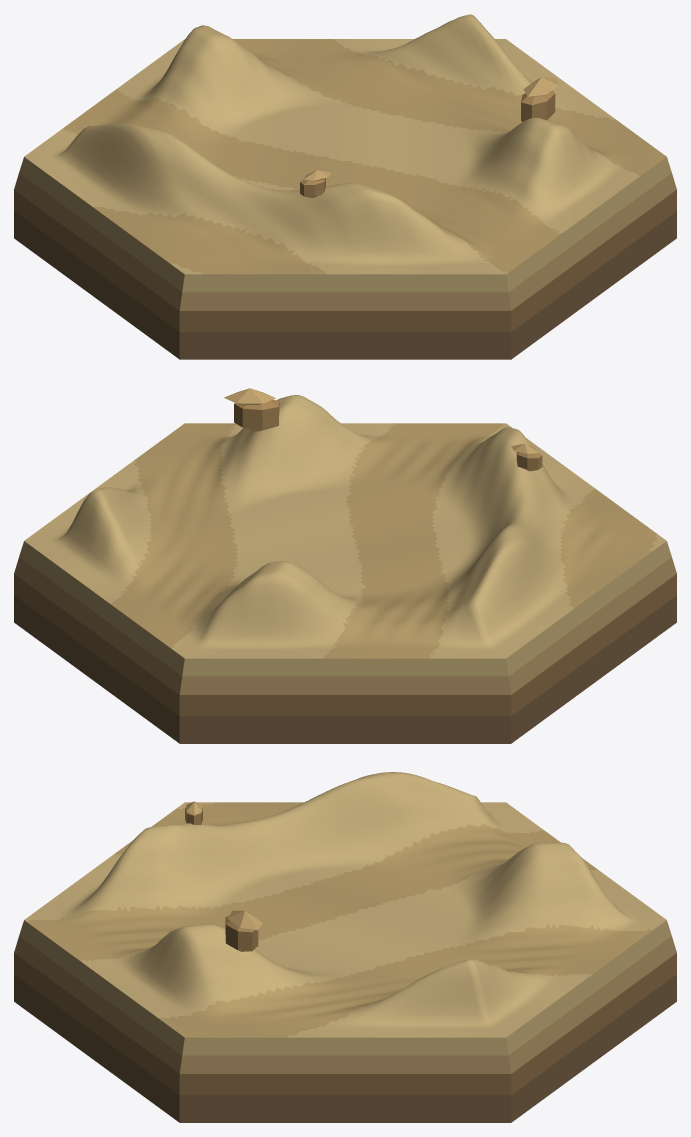
File: catan_terrain_desert_01.glb
3 views of the same model, one above another, from view 1: azimuth 30°, elevation 25°; view 2: azimuth 150°, elevation 25°; view 3: azimuth 270°, elevation 25° (orthographic).
Visible parts, largest first — view 1: catan_terrain_desert_01_ground, catan_terrain_desert_01_decoration; view 2: catan_terrain_desert_01_ground, catan_terrain_desert_01_decoration; view 3: catan_terrain_desert_01_ground, catan_terrain_desert_01_decoration.
Part boxes in pixels (left/top/right/bottom): catan_terrain_desert_01_ground: left=14, top=14, right=676, bottom=359; catan_terrain_desert_01_decoration: left=300, top=77, right=559, bottom=197; catan_terrain_desert_01_ground: left=14, top=395, right=676, bottom=743; catan_terrain_desert_01_decoration: left=224, top=388, right=542, bottom=471; catan_terrain_desert_01_ground: left=14, top=772, right=676, bottom=1122; catan_terrain_desert_01_decoration: left=185, top=801, right=262, bottom=951.
Size of the model in its own units: 1.71 by 0.5313 by 1.97.
